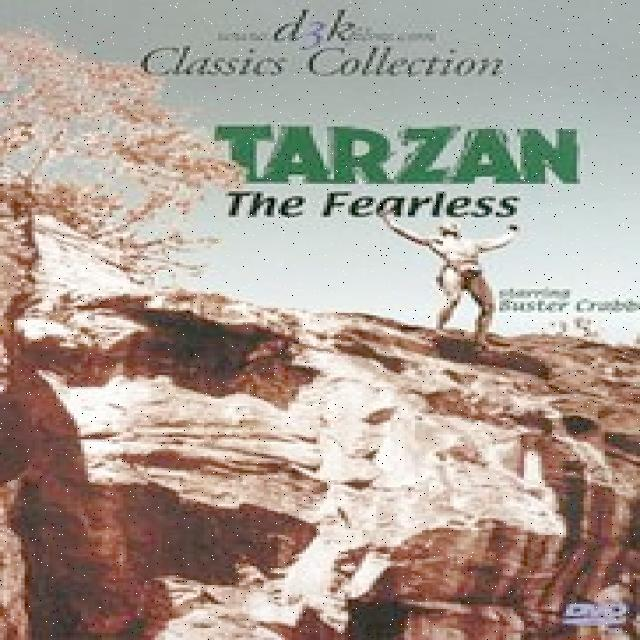movie-judul: (209, 116, 607, 225)
picture: (0, 30, 640, 640)
